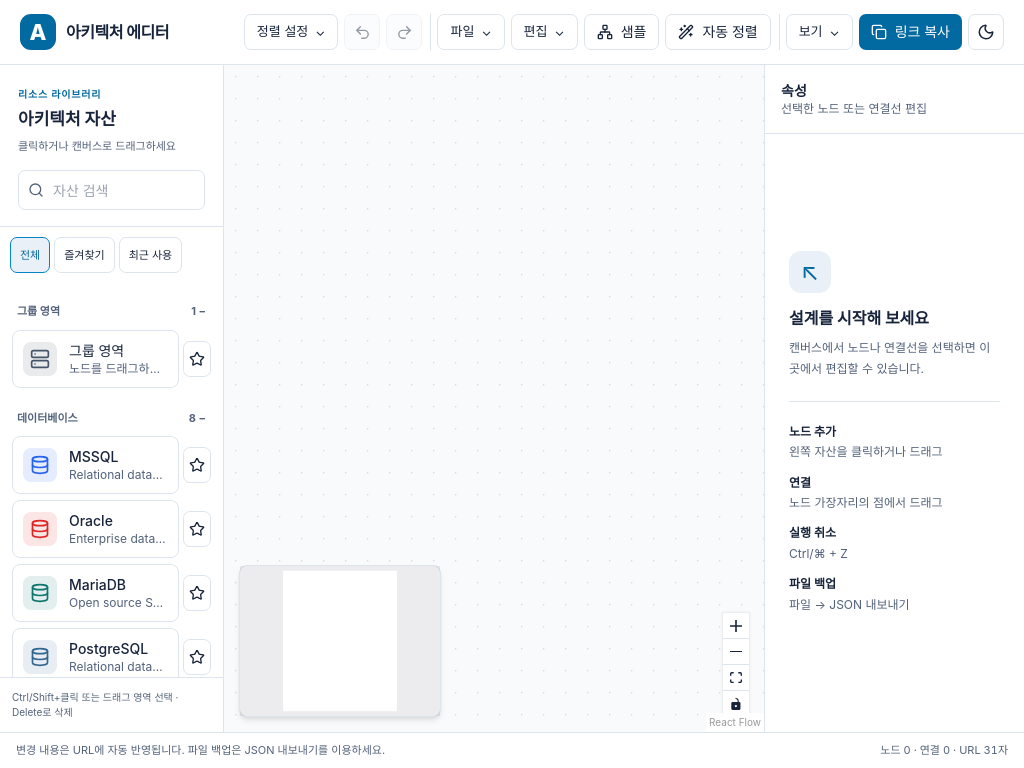
Test: reports clipboard failure instead of claiming success
Click the button "링크 복사" at (910, 32), box x1=859 y1=14 x2=962 y2=50
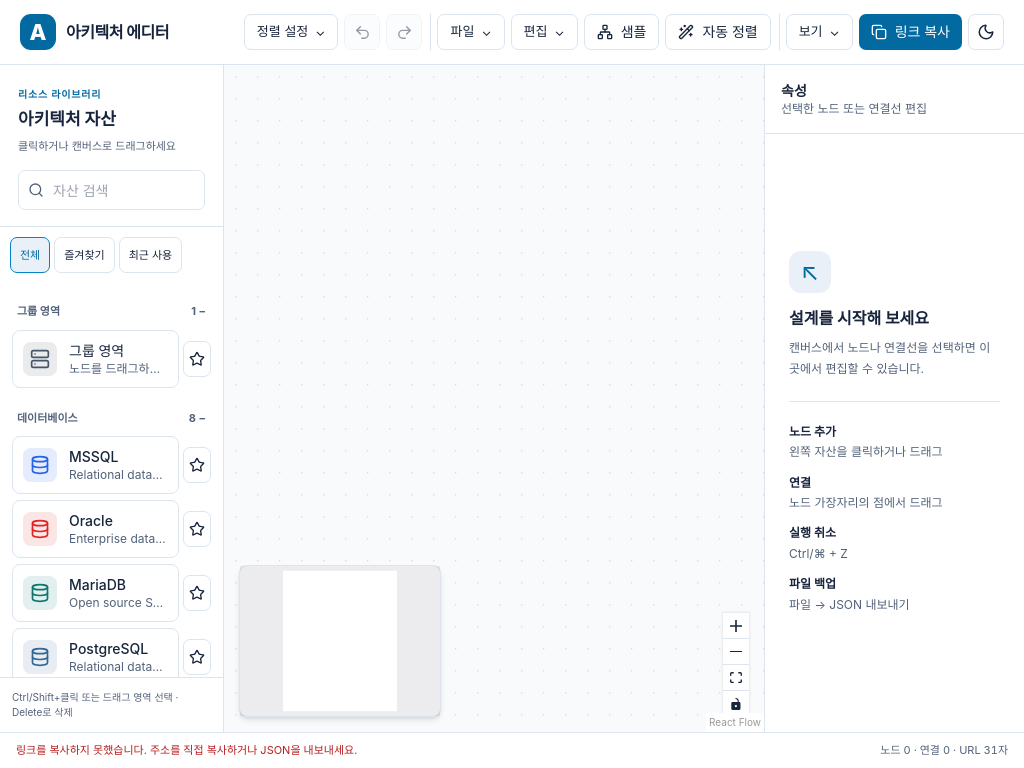
Expected: the message shows "링크를 복사하지 못했습니다", x1=16 y1=743 x2=357 y2=757
